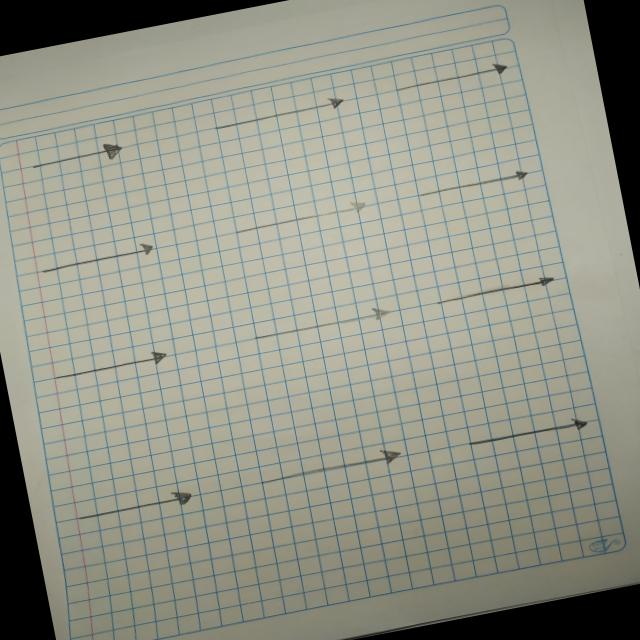arrow_line_right: (236, 428, 429, 507), (240, 293, 408, 362), (446, 404, 605, 466), (225, 188, 382, 246), (205, 86, 354, 144), (66, 482, 216, 538), (425, 262, 569, 318), (27, 230, 168, 286), (384, 54, 514, 108), (40, 342, 176, 391), (412, 160, 538, 210), (21, 134, 142, 184)
